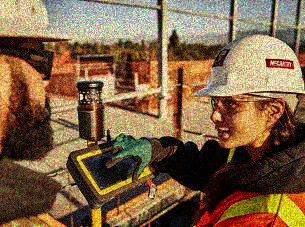helmet: (190, 32, 305, 147), (1, 1, 72, 157)
